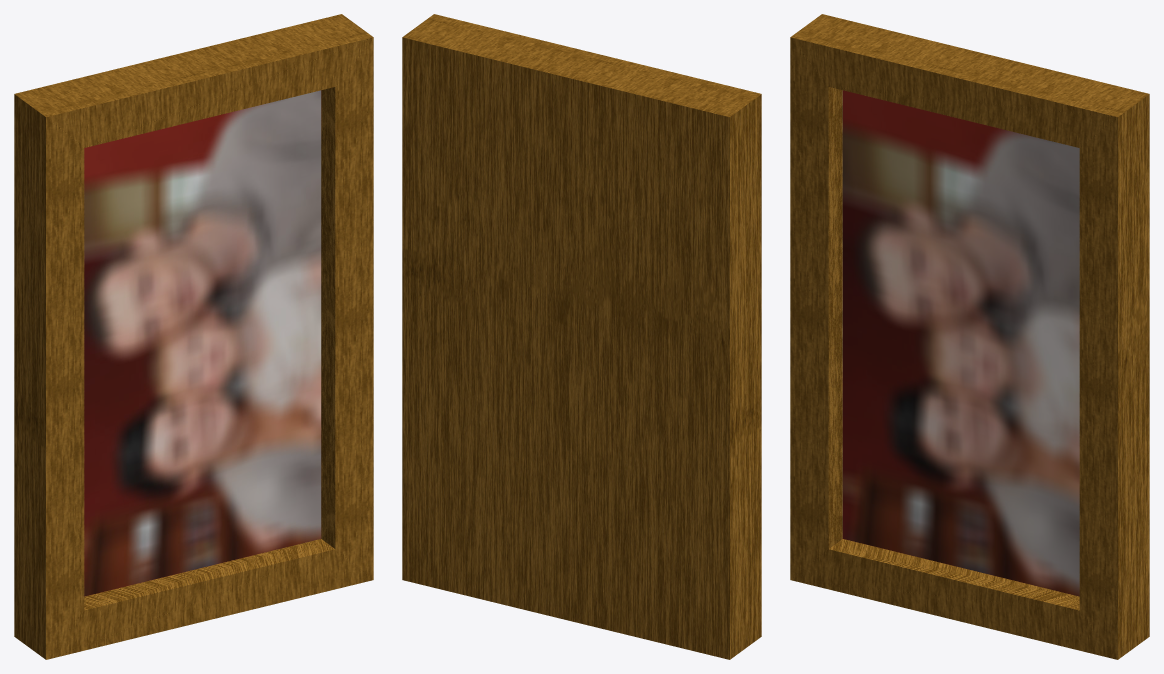
Rendered from PictureHanging1.FBX.
3 views of the same model, side by side, from view 1: azimuth 30°, elevation 25°; view 2: azimuth 150°, elevation 25°; view 3: azimuth 330°, elevation 25° (orthographic).
Parts seen in each view (by area): view 1: Box001; view 2: Box001; view 3: Box001.
Part boxes in pixels (x1=…): Box001: x1=14, y1=14, x2=373, y2=659; Box001: x1=402, y1=14, x2=761, y2=659; Box001: x1=790, y1=14, x2=1149, y2=659.
Size of the model in its own units: 31.59 by 50 by 5.33.
Materials: 2 (2 with a texture image).
